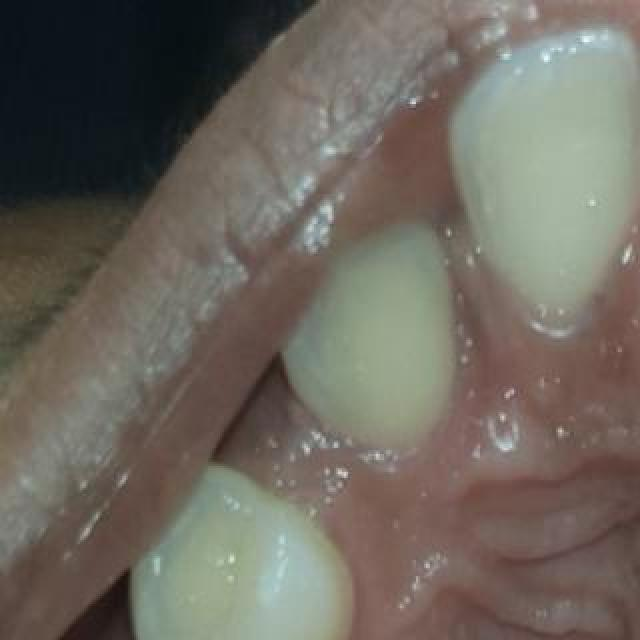missing: (260, 380, 340, 524)
spacing: (598, 38, 640, 292), (449, 225, 511, 391)
